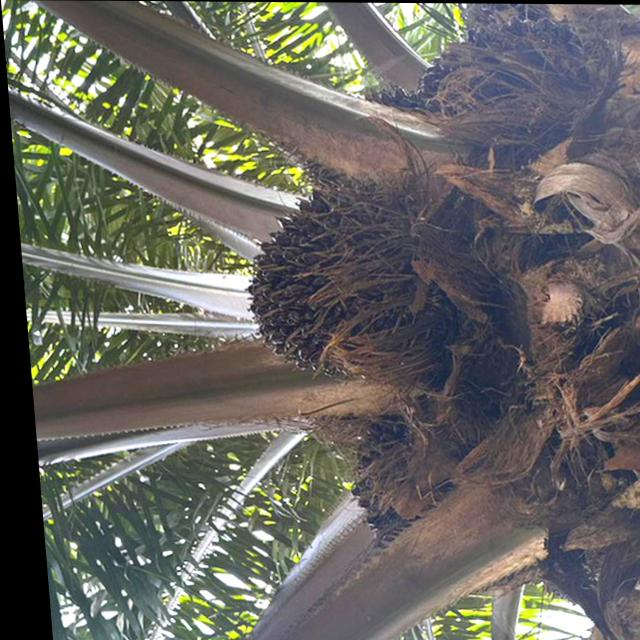almost: (223, 183, 458, 386), (346, 11, 590, 173), (332, 425, 474, 582)
